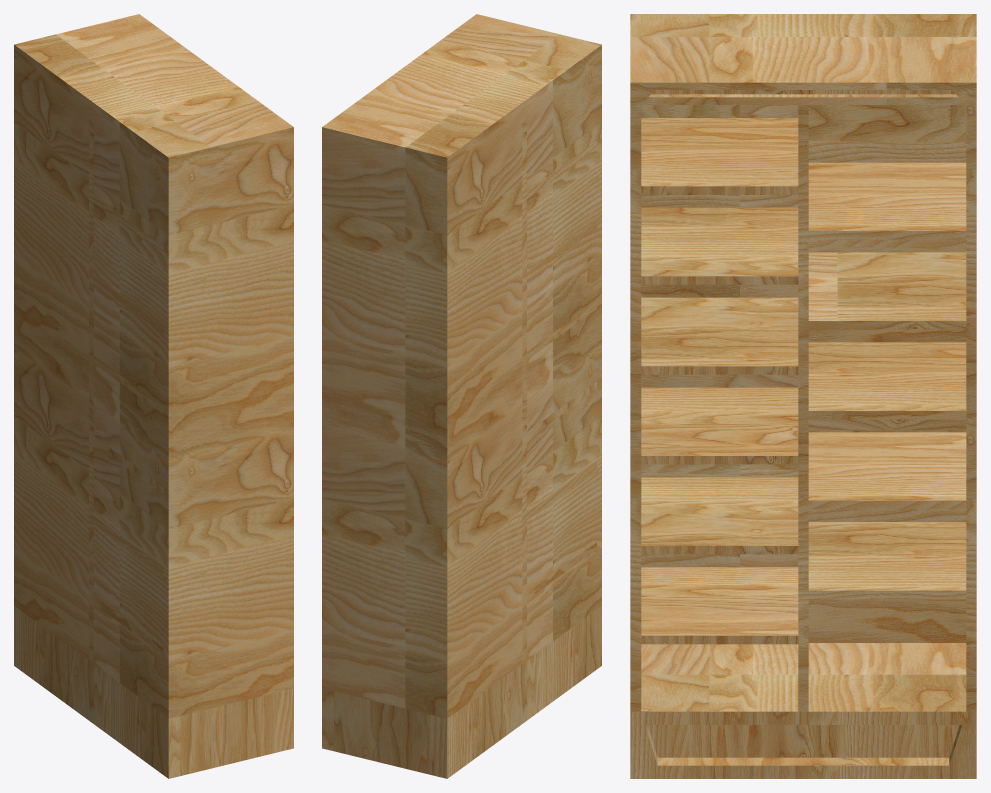
File: librero.obj
3 renders of one model, left to right at view 1: azimuth 30°, elevation 25°; view 2: azimuth 150°, elevation 25°; view 3: azimuth 270°, elevation 25°, orthographic. The views are drawn at different scales.
Parts seen in each view (by area): view 1: Cube; view 2: Cube; view 3: Cube.
Part boxes in pixels (x1,y1,x2,y2): Cube: (14,14,293,778); Cube: (322,14,601,778); Cube: (630,14,976,778).
Bounding box in the file's own units: 1.08 × 5.12 × 2.31.
Materials: 1 (1 with a texture image).
